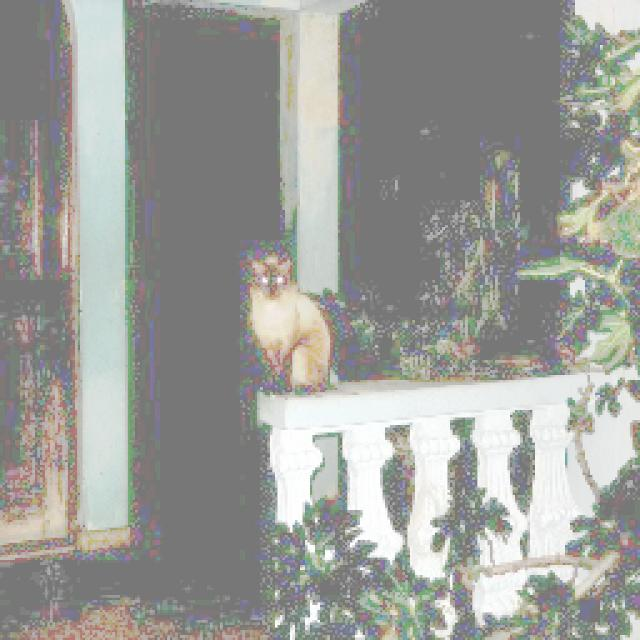cat: (235, 246, 343, 399)
